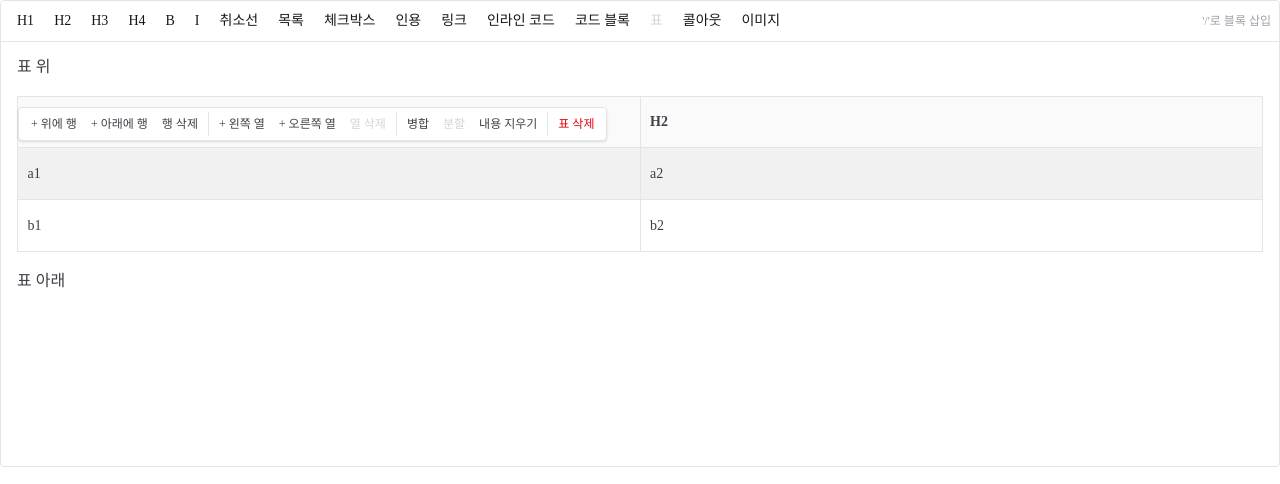
Test: 셀 병합·분할 버튼 › 두 칸을 골라 '셀 병합'을 누르면 한 칸으로 합쳐지고, 병합 버튼은 꺼지고 분할 버튼이 켜진다
expect the field labelled "표 위 H1 H2 a1 a2 b1 b2 표 아래" is shown: met, box [17,58,1262,289]
Click the button with aria-label "셀 병합": (418, 124) [401,112,435,136]
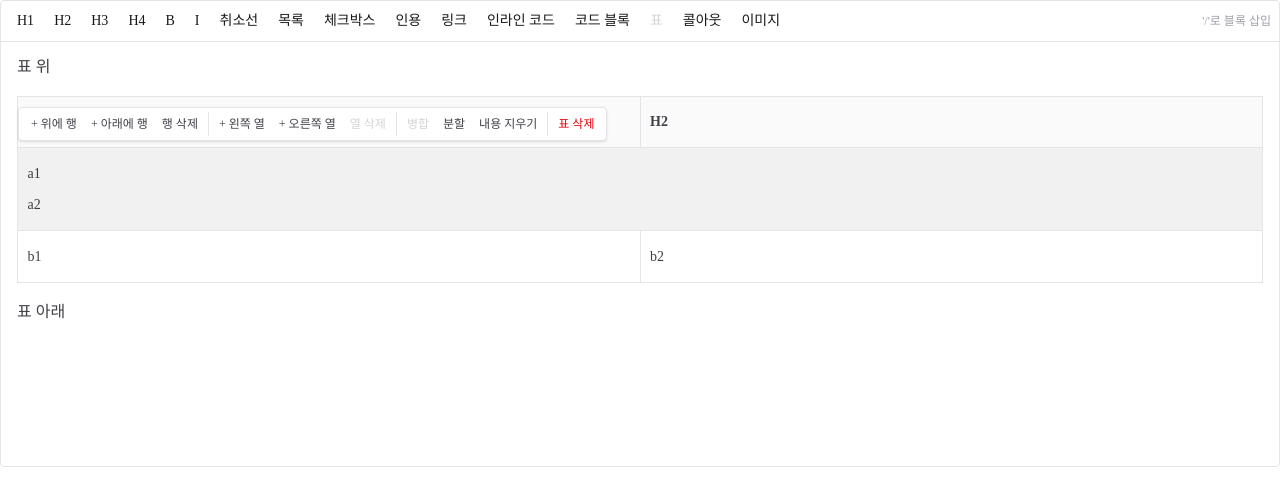
expect the button with aria-label "셀 분할" is enabled: met, box [437,112,471,136]
expect the button with aria-label "셀 병합" is disabled: met, box [401,112,435,136]
